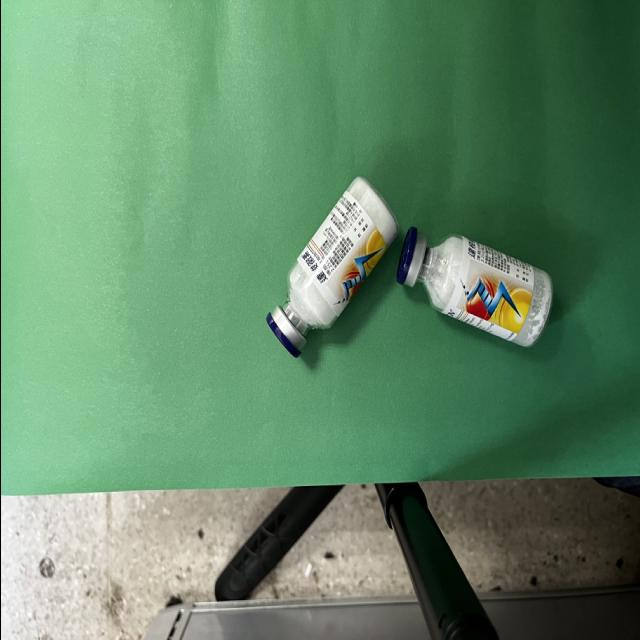Vials: (265, 178, 396, 357), (396, 228, 552, 347)
